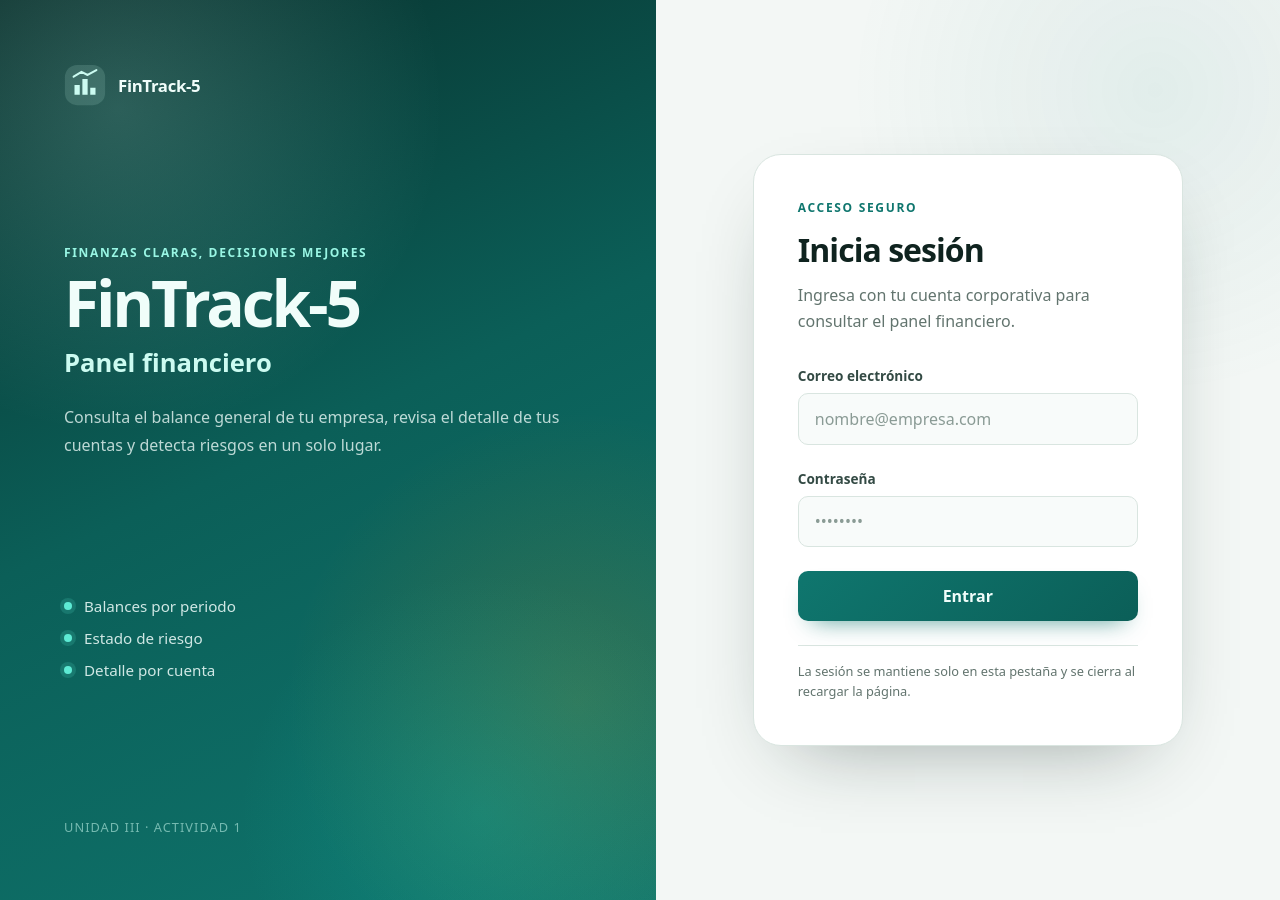
login › muestra un error comprensible con credenciales incorrectas y conserva los datos
In the field labelled "Correo electrónico": (968, 419) [798,393,1138,444], type "admin_a@test.local"
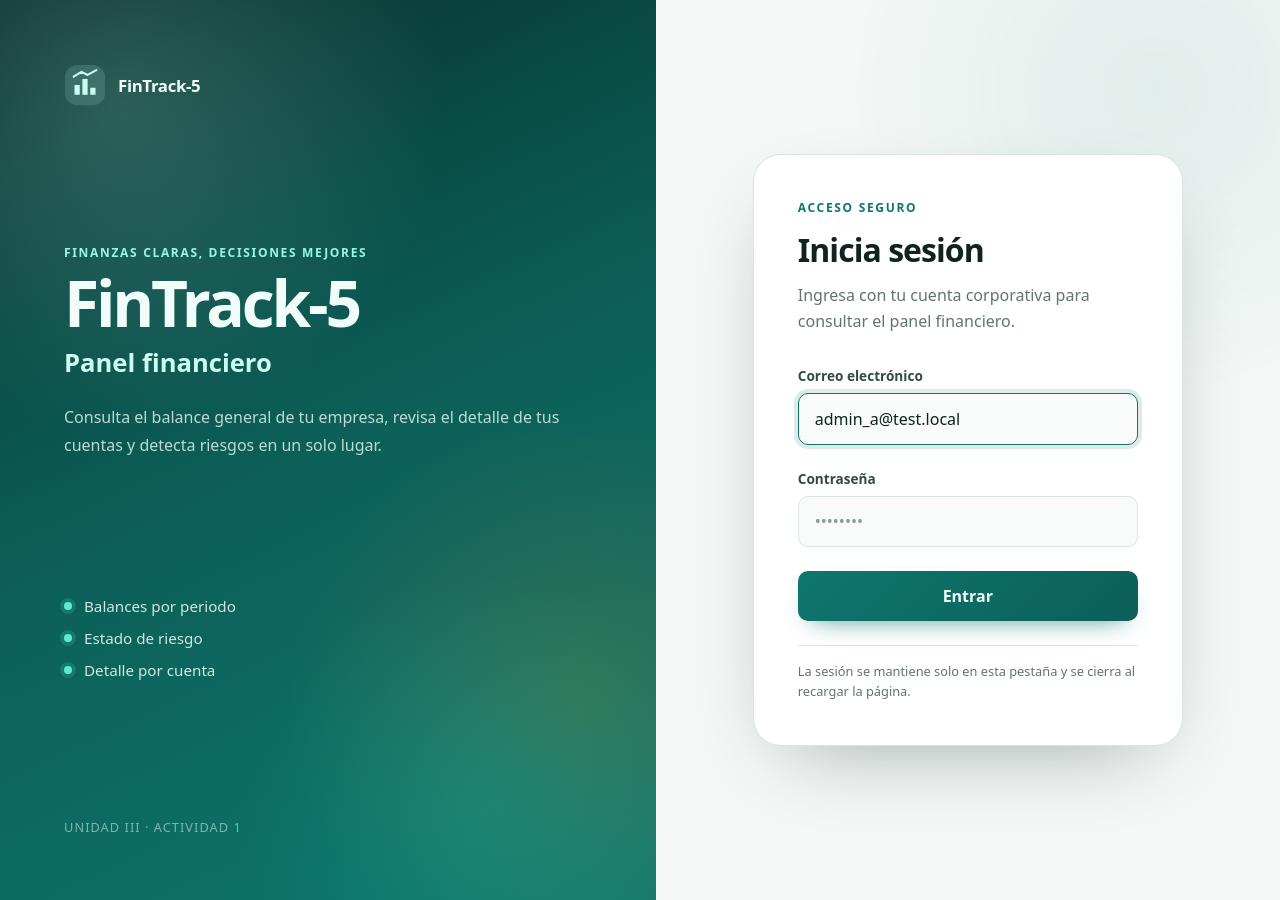
In the password field labelled "Contraseña": (968, 521) [798,496,1138,547], type "clave-incorrecta"
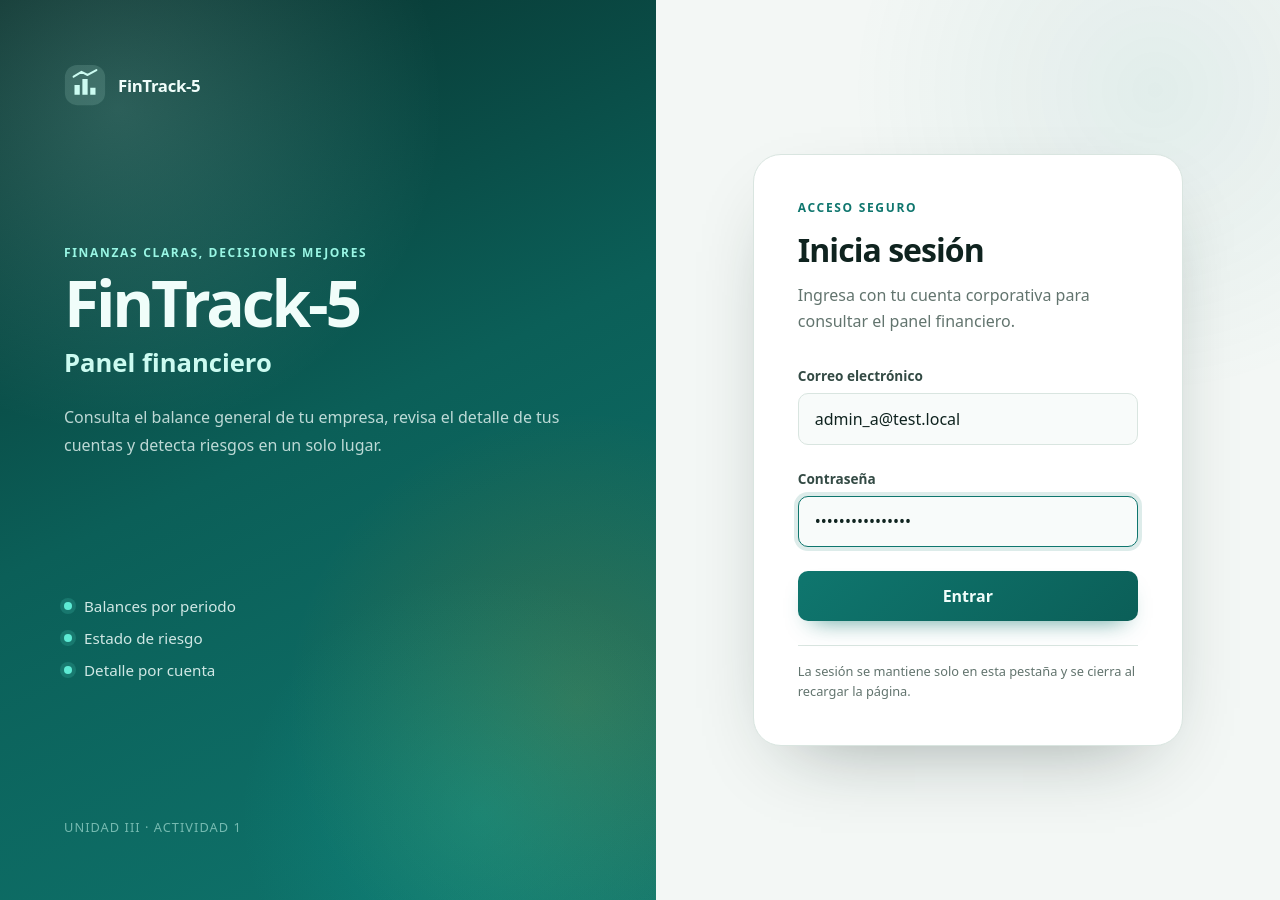
Click the button "Entrar": (968, 596) [798,571,1138,622]
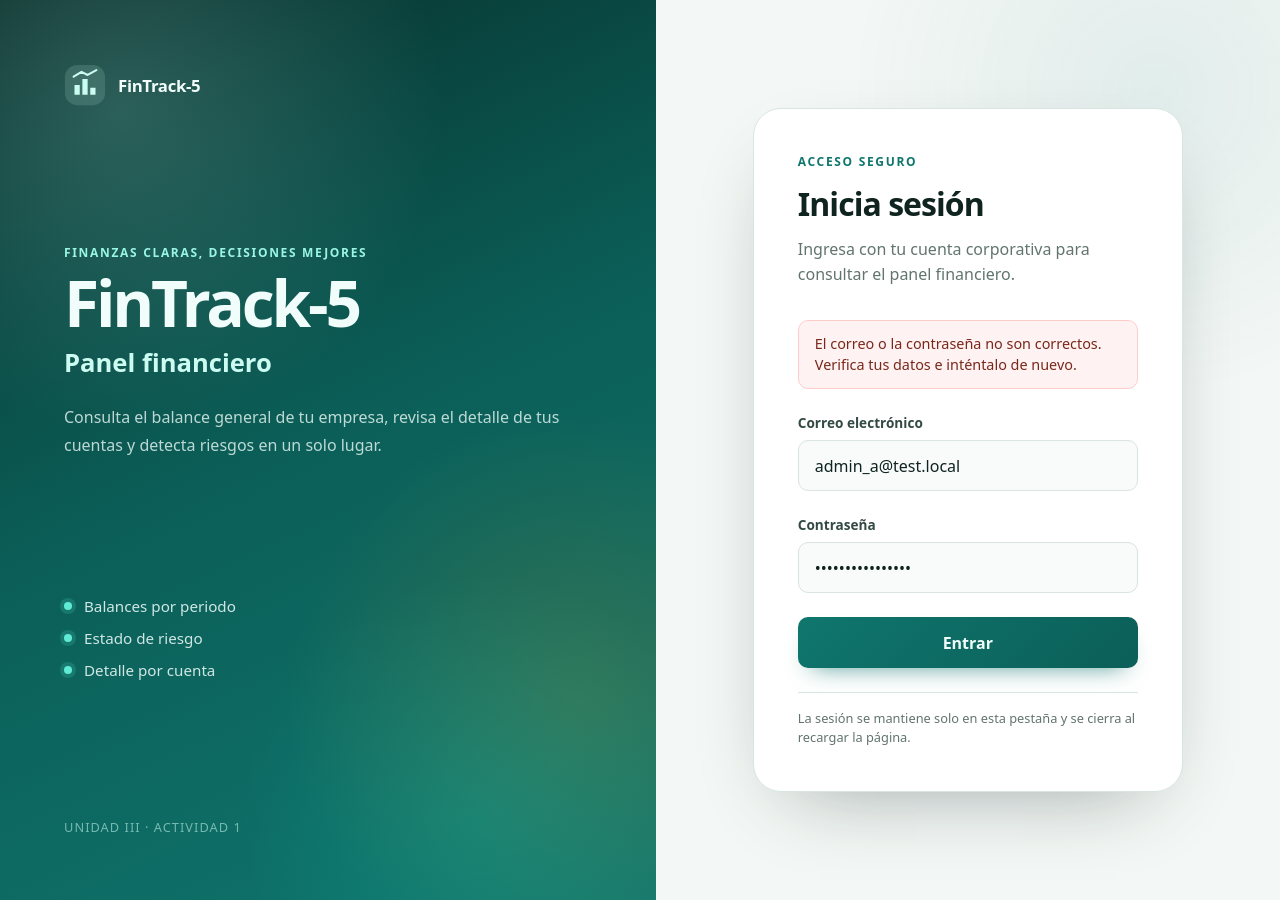
Check: the message shows "correo o la contraseña no son correctos", box [815,334,1102,374]
